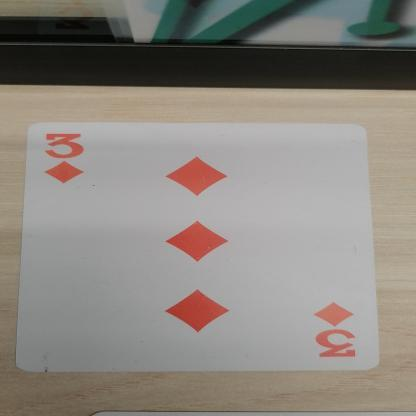3D: (30, 127, 100, 192), (320, 298, 376, 366)
